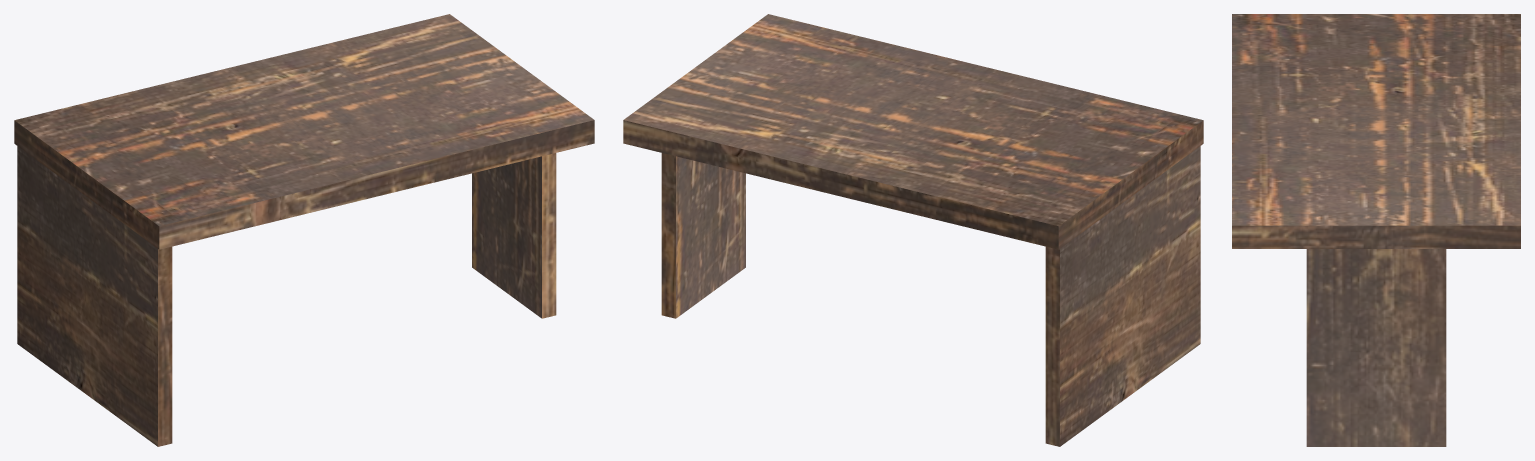
The model's file is table_v2.fbx.
3 renders of one model, left to right at view 1: azimuth 30°, elevation 25°; view 2: azimuth 150°, elevation 25°; view 3: azimuth 270°, elevation 25°, orthographic.
Parts seen in each view (by area): view 1: Cube.002; view 2: Cube.002; view 3: Cube.002.
Part boxes in pixels (x1,y1,x2,y2): Cube.002: (14, 14, 594, 446); Cube.002: (623, 14, 1203, 446); Cube.002: (1232, 14, 1520, 446).
Bounding box in the file's own units: 484 × 237 × 279.
